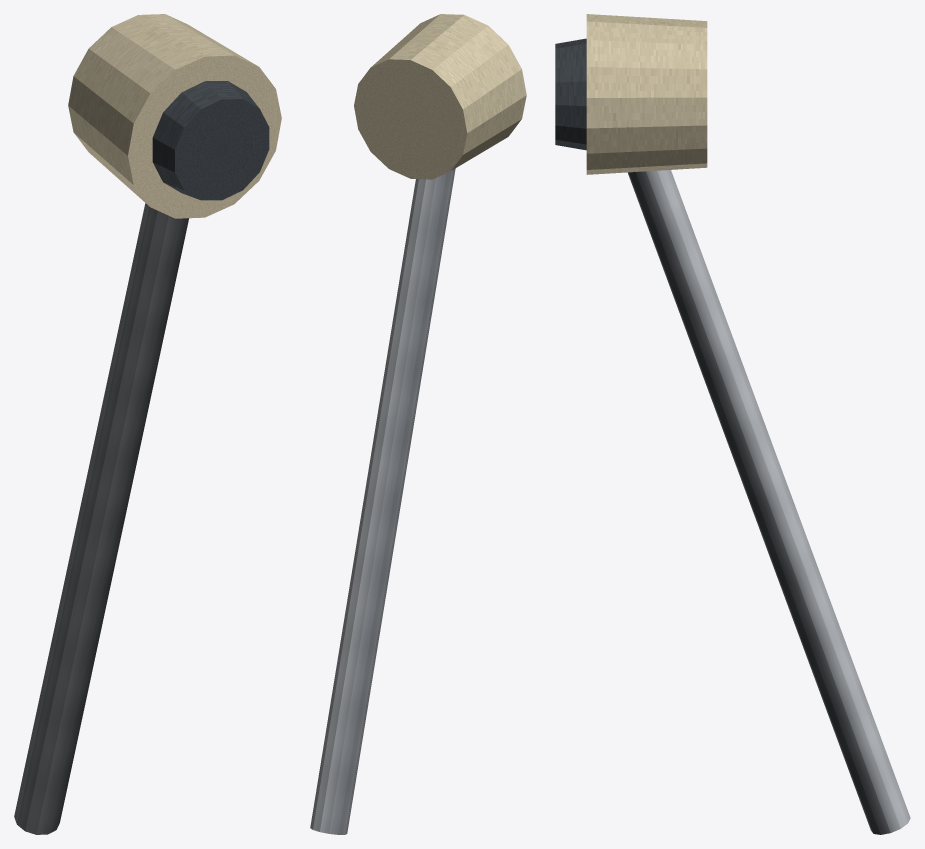
File: kick_beater.obj
The picture shows the model from 3 angles, left to right: view 1: azimuth 30°, elevation 25°; view 2: azimuth 150°, elevation 25°; view 3: azimuth 270°, elevation 25°; orthographic projection. The views are drawn at different scales.
Parts seen in each view (by area): view 1: drums; view 2: drums; view 3: drums.
Boxes of the visible parts, box(x1,y1,x2,y2) form: drums: box(14, 14, 281, 834); drums: box(310, 14, 526, 834); drums: box(555, 14, 910, 834).
Bounding box in the file's own units: 0.036 × 0.1995 × 0.0795.
